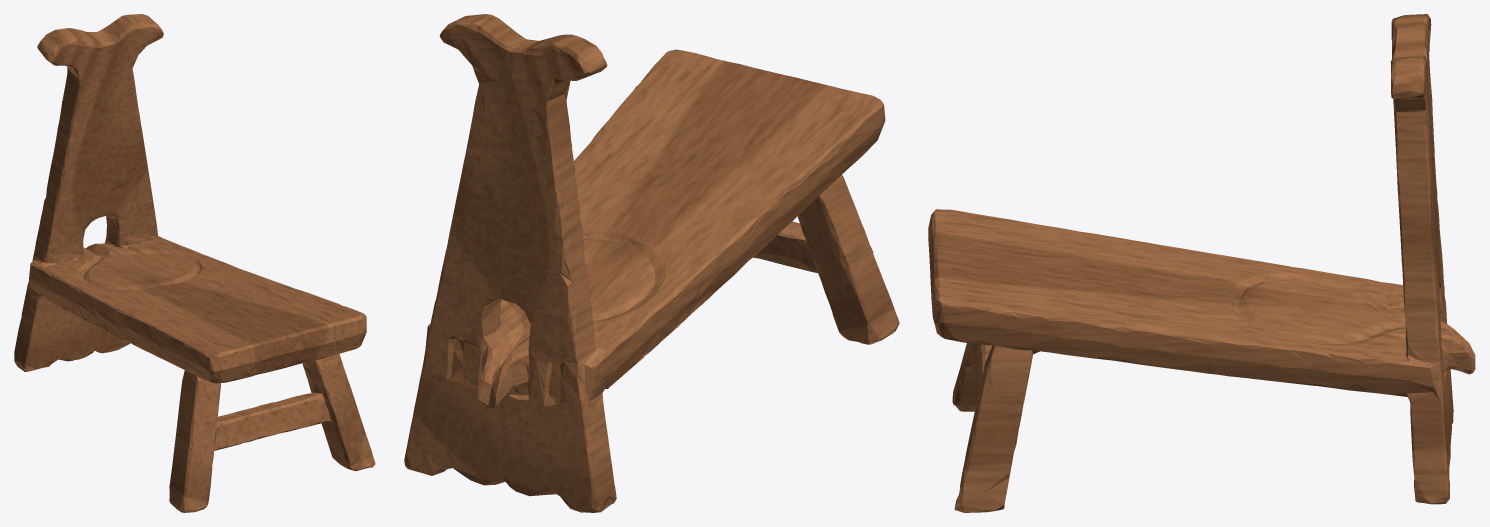
The model's file is Yaktle_body.fbx.
3 renders of one model, left to right at view 1: azimuth 30°, elevation 25°; view 2: azimuth 150°, elevation 25°; view 3: azimuth 270°, elevation 25°, orthographic. The views are drawn at different scales.
Visible parts, largest first — view 1: 약틀; view 2: 약틀; view 3: 약틀.
Part boxes in pixels (bbox=[...]): 약틀: bbox=[14, 14, 375, 512]; 약틀: bbox=[404, 14, 899, 512]; 약틀: bbox=[928, 14, 1475, 512].
Size of the model in its own units: 50.24 by 83.09 by 97.92.
1 material, 1 textured.
